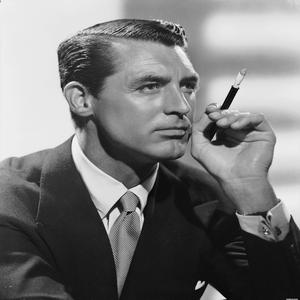cigarette: (211, 69, 248, 126)
